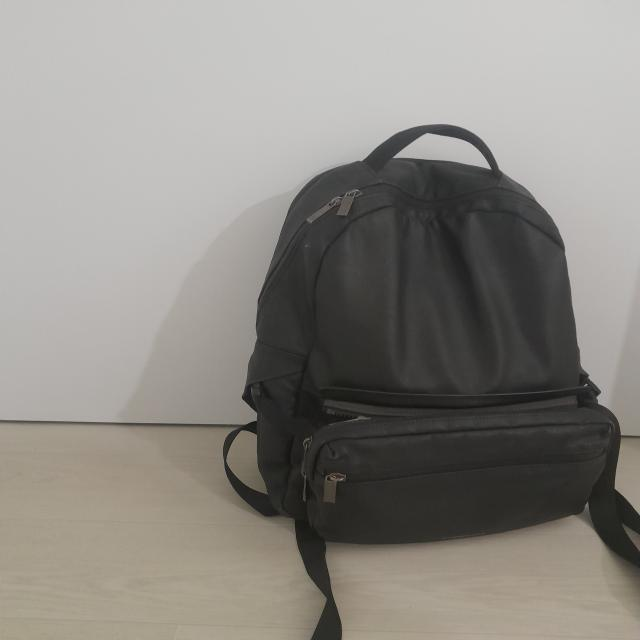backpack: (221, 124, 640, 640)
